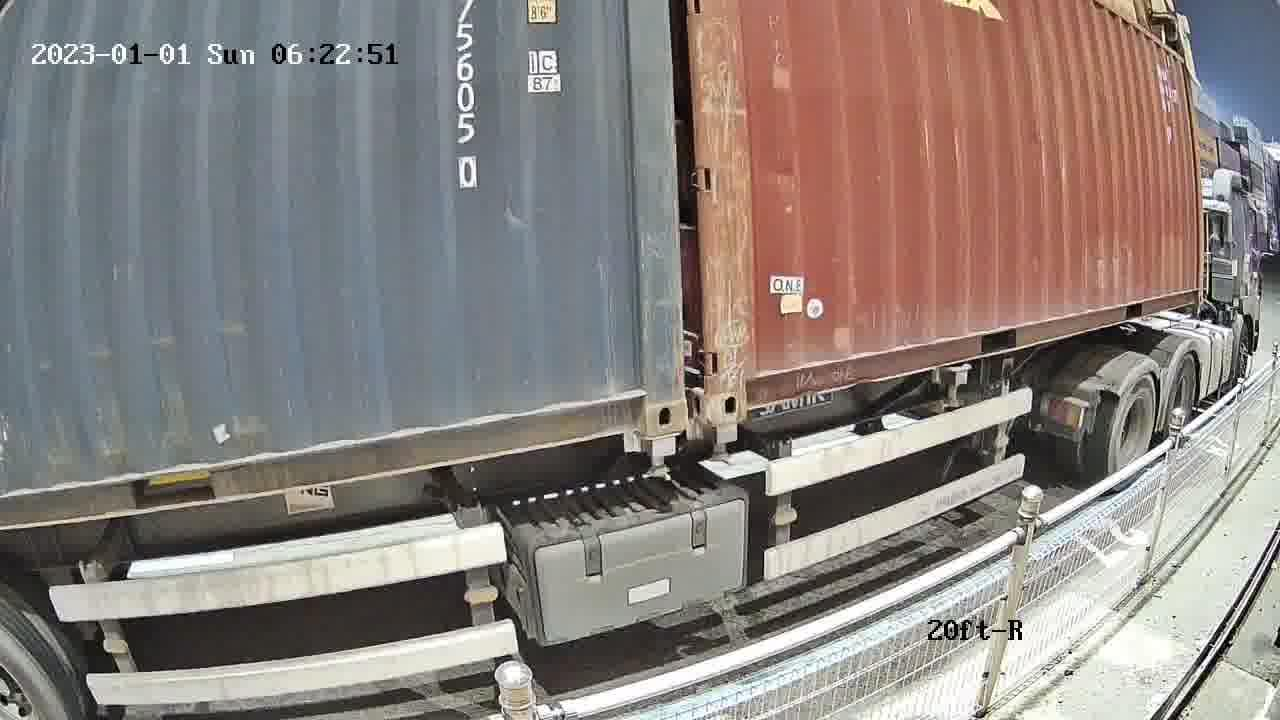Cone: (640, 433, 679, 484), (709, 423, 742, 466)
Hole_L: (709, 351, 774, 424)
Hole_R: (593, 358, 687, 445)
Tire: (1107, 375, 1157, 490), (1164, 354, 1197, 445)
